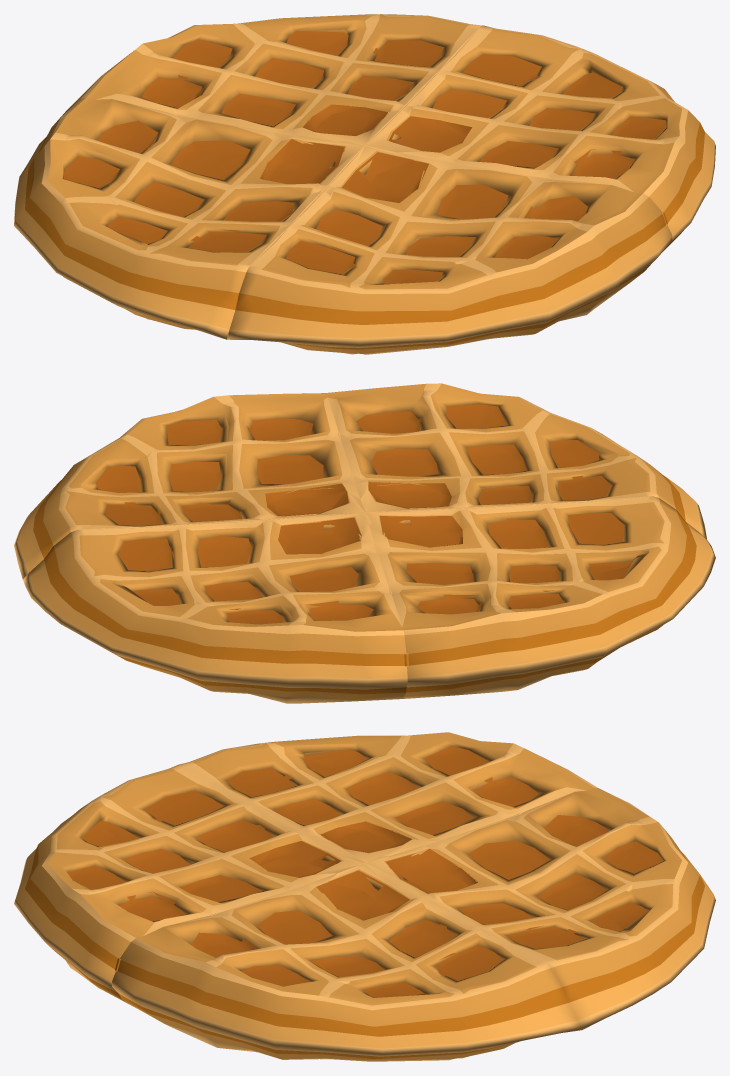
File: waffle.fbx
3 views of the same model, one above another, from view 1: azimuth 30°, elevation 25°; view 2: azimuth 150°, elevation 25°; view 3: azimuth 270°, elevation 25° (orthographic). The views are drawn at different scales.
Parts seen in each view (by area): view 1: WAFFLE; view 2: WAFFLE; view 3: WAFFLE.
Boxes of the visible parts, x1=… form: WAFFLE: x1=14, y1=14, x2=715, y2=354; WAFFLE: x1=14, y1=383, x2=715, y2=703; WAFFLE: x1=14, y1=732, x2=715, y2=1061.
Size of the model in its own units: 197 by 24.62 by 195.
